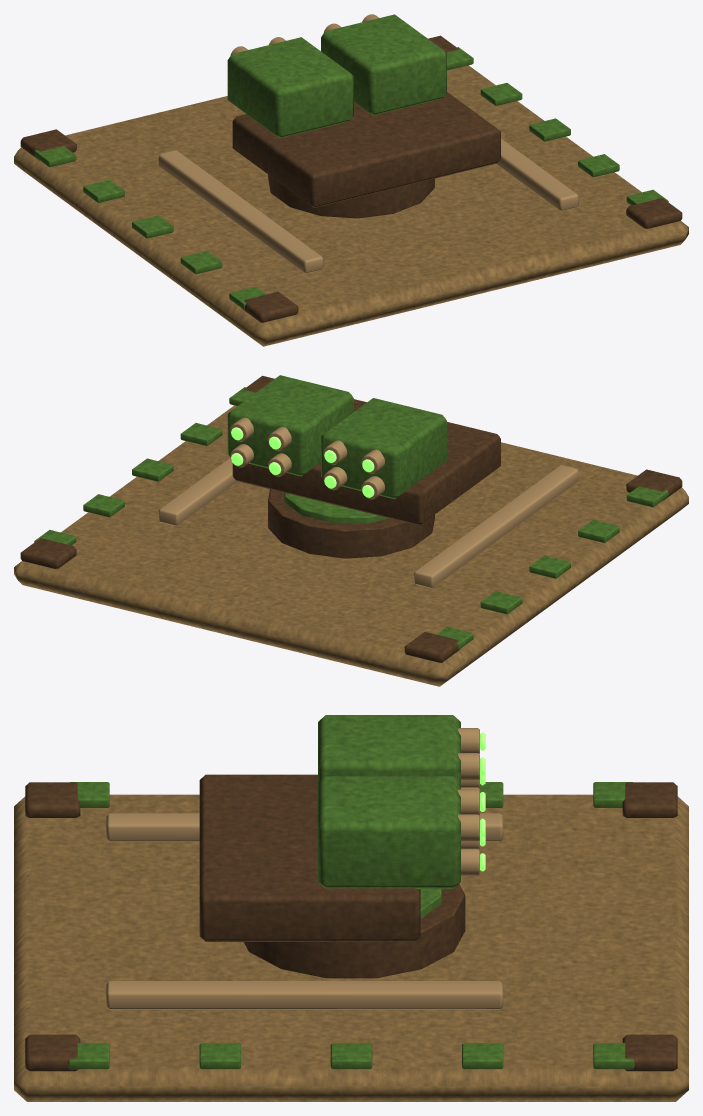
Rendered from vael_salve_du_desert.gltf.
3 views of the same model, one above another, from view 1: azimuth 30°, elevation 25°; view 2: azimuth 150°, elevation 25°; view 3: azimuth 270°, elevation 25° (orthographic). The views are drawn at different scales.
Parts seen in each view (by area): view 1: Root.012_Geometry, TurretYaw.002_Geometry, GunPitch.001_Geometry, GunPitch.002_Geometry; view 2: Root.012_Geometry, GunPitch.001_Geometry, GunPitch.002_Geometry, TurretYaw.002_Geometry; view 3: Root.012_Geometry, TurretYaw.002_Geometry, GunPitch.002_Geometry, GunPitch.001_Geometry.
Part boxes in pixels (box(x1,y1,x2,y2)): Root.012_Geometry: box(14, 35, 688, 346); TurretYaw.002_Geometry: box(232, 92, 500, 207); GunPitch.001_Geometry: box(227, 37, 353, 138); GunPitch.002_Geometry: box(321, 14, 446, 115); Root.012_Geometry: box(14, 375, 688, 686); GunPitch.001_Geometry: box(321, 398, 446, 499); GunPitch.002_Geometry: box(227, 375, 353, 476); TurretYaw.002_Geometry: box(232, 399, 500, 525); Root.012_Geometry: box(14, 782, 688, 1101); TurretYaw.002_Geometry: box(199, 774, 420, 941); GunPitch.002_Geometry: box(318, 776, 485, 888); GunPitch.001_Geometry: box(318, 715, 485, 795).
Size of the model in its own units: 3.91 by 1.26 by 3.91.
Materials: 5 (3 with a texture image).
